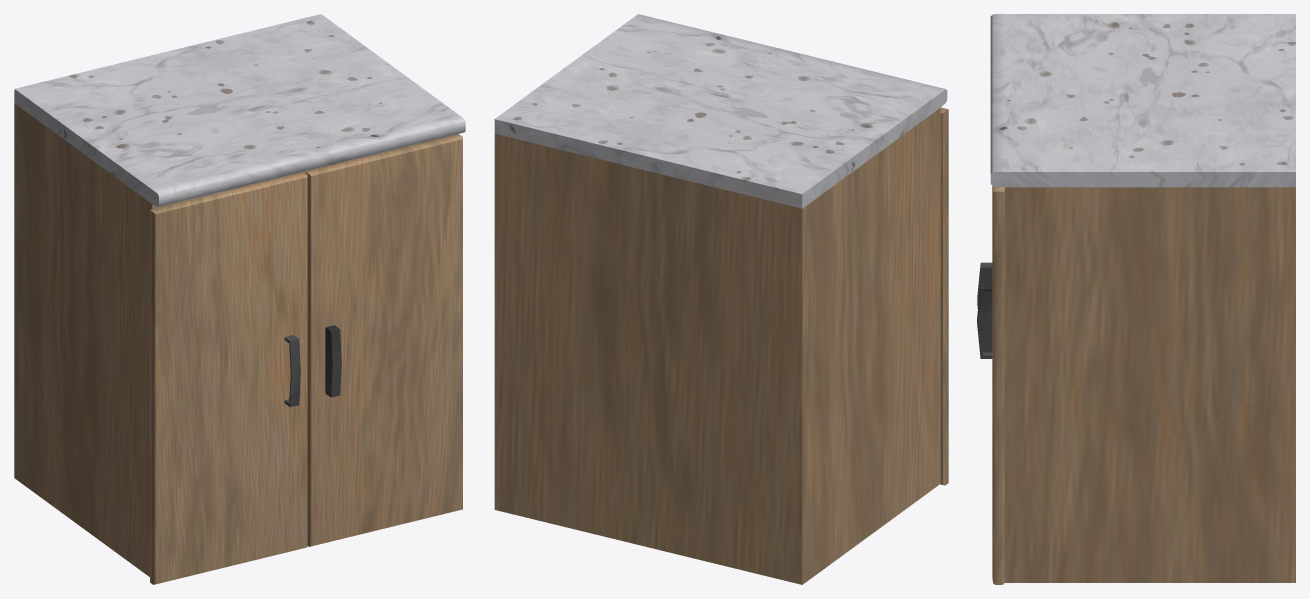
Rendered from CounterTop01.fbx.
3 views of the same model, side by side, from view 1: azimuth 30°, elevation 25°; view 2: azimuth 150°, elevation 25°; view 3: azimuth 270°, elevation 25° (orthographic). The views are drawn at different scales.
Parts seen in each view (by area): view 1: CounterTop01; view 2: CounterTop01; view 3: CounterTop01.
Boxes of the visible parts, x1,y1,x2,y2 form: CounterTop01: [14, 14, 465, 584]; CounterTop01: [494, 14, 948, 584]; CounterTop01: [977, 14, 1295, 584].
Bounding box in the file's own units: 70.78 × 85.32 × 59.68.
Materials: 1 (1 with a texture image).
